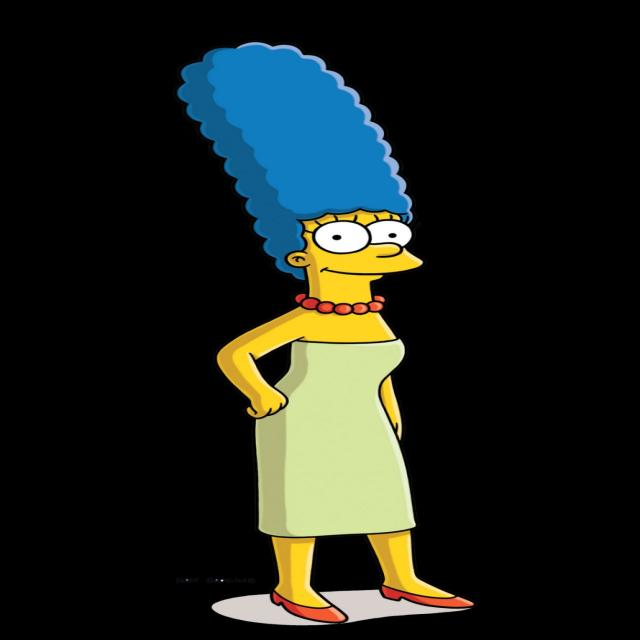Marge Simpson: (171, 38, 430, 318)
